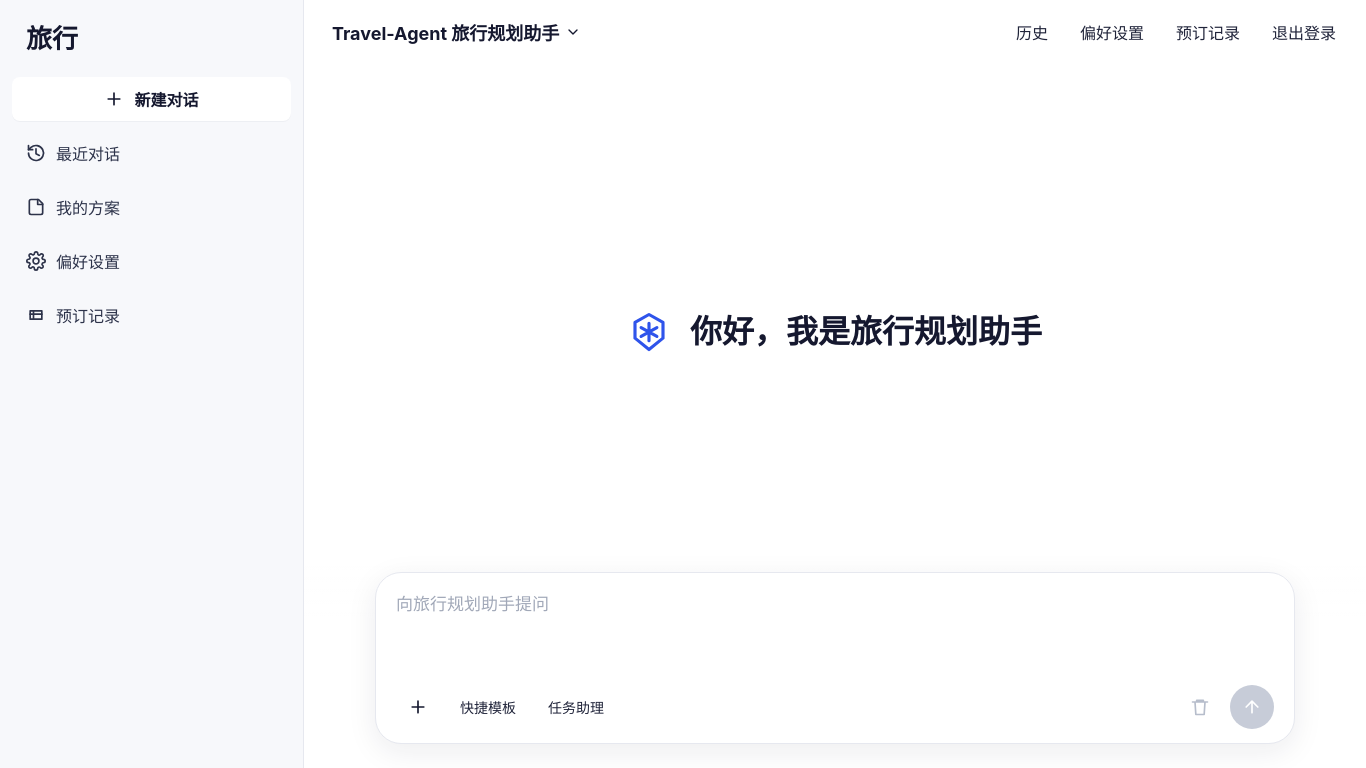
Scenario: stores generated sessions and loads real history instead of mock entries
In the text box named "旅行需求": (835, 632) left=396, top=591, right=1274, bottom=673, type "plan hangzhou"
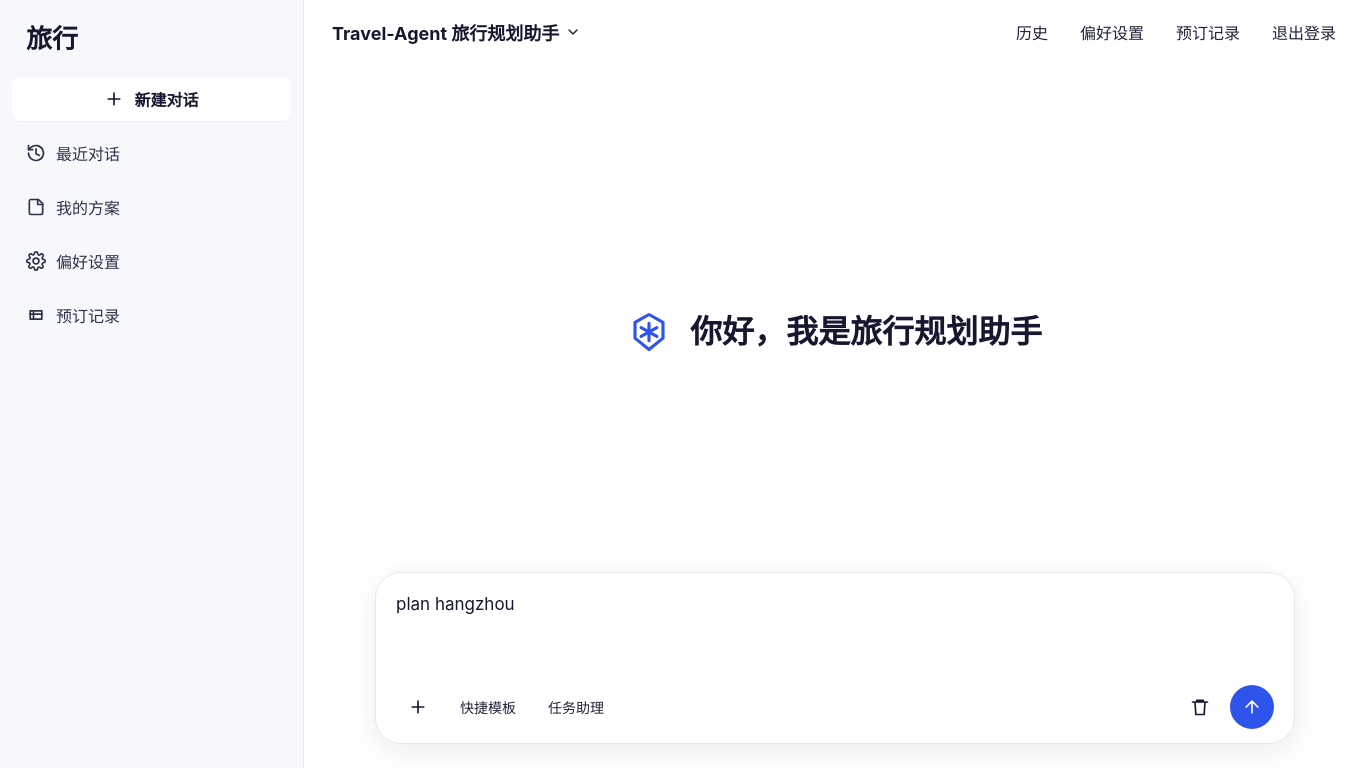
Click the button named "发送": (1252, 707) left=1230, top=685, right=1274, bottom=729
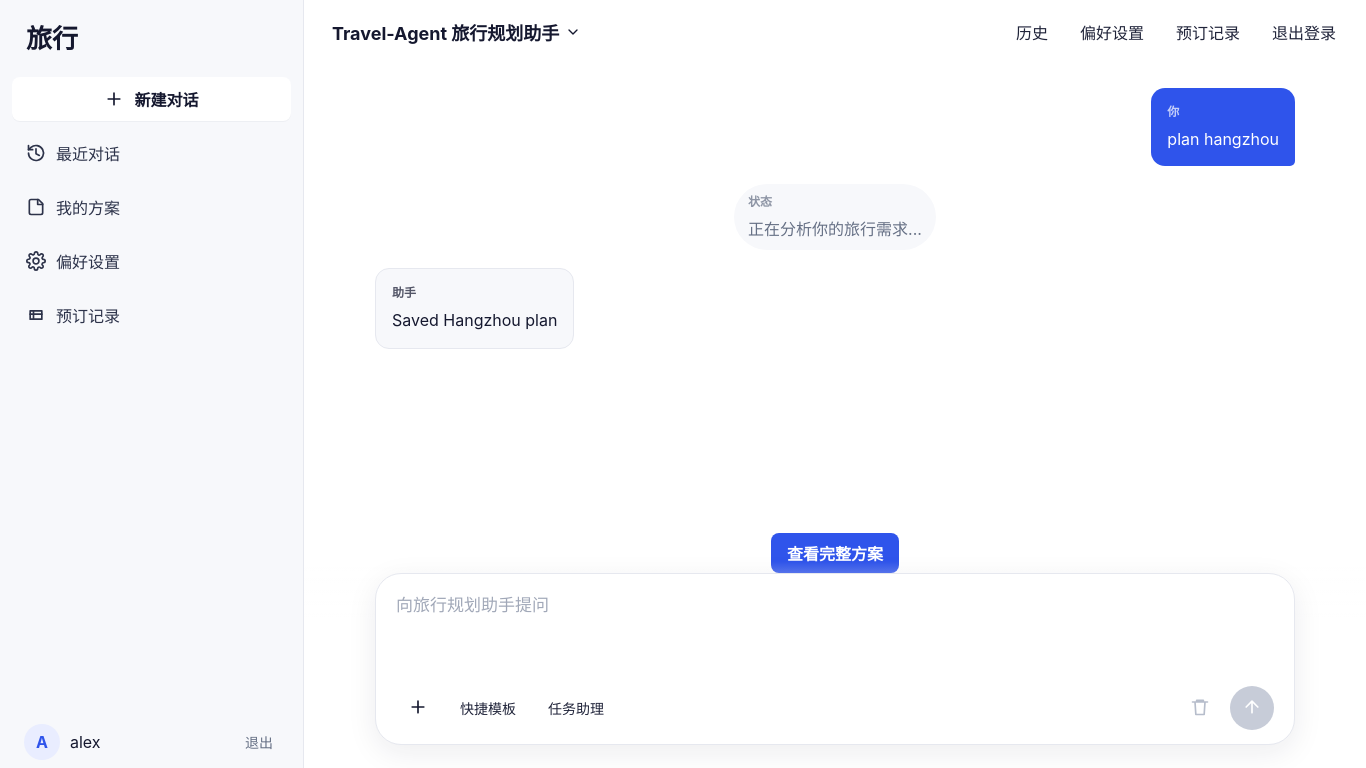
Expected: the text "Saved Hangzhou plan" is shown, left=392, top=307, right=557, bottom=334
Click the button "历史": (1032, 32) left=1004, top=12, right=1060, bottom=52
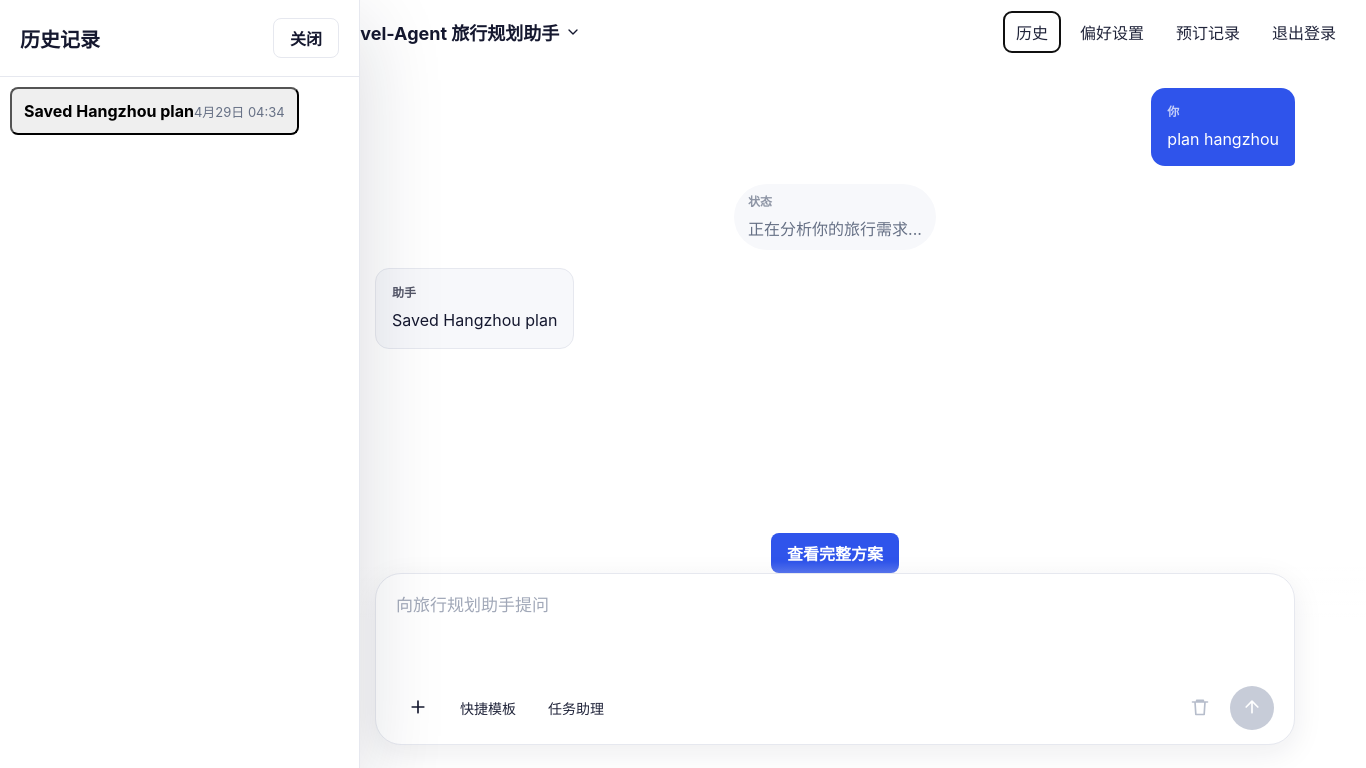
Expected: the text "Saved Hangzhou plan" below "历史记录" is shown, left=24, top=101, right=194, bottom=121
